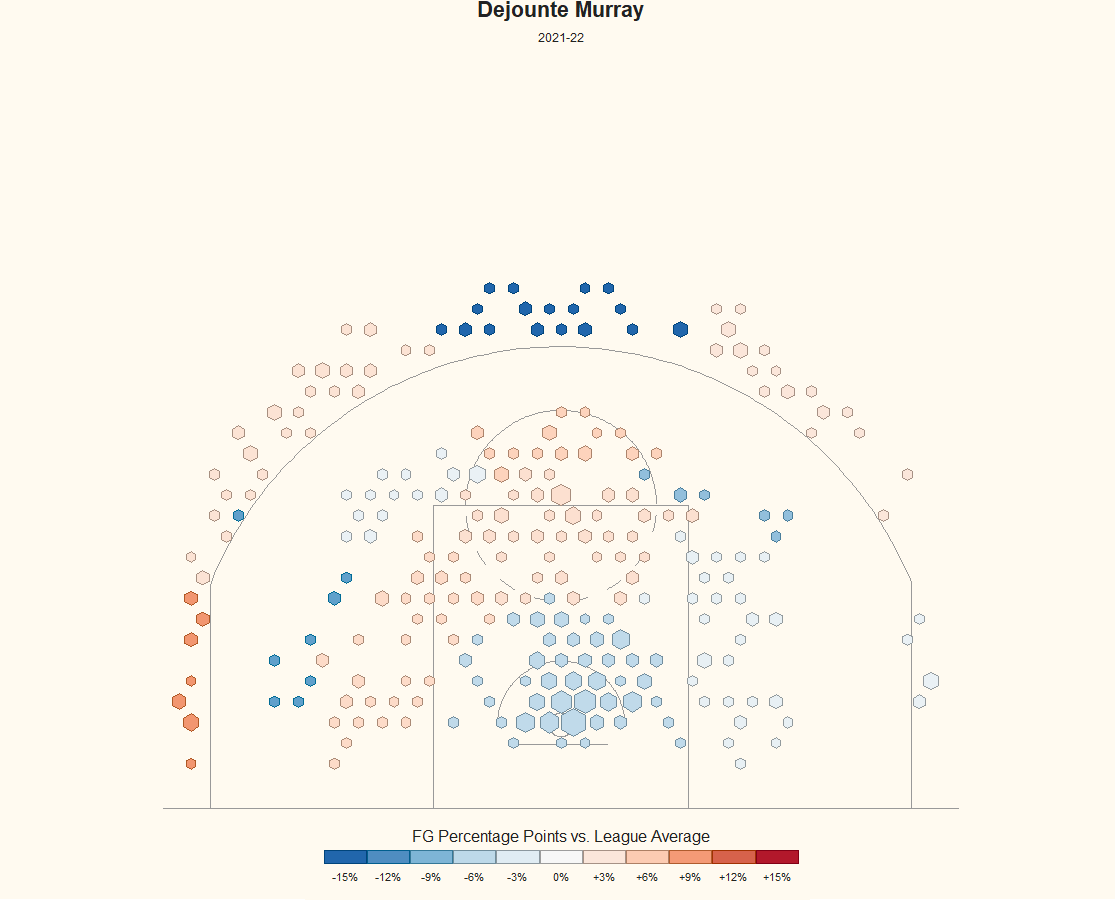

Layout of this report page (visuals, bound fields, positions):
{"tool":"tableau","page":{"name":"Dashboard 1","canvas":[800,800],"ordinal":0},"visuals":[{"type":"worksheet","title":"Sheet 1","mark":"Automatic","rows":["LOC_Y"],"cols":["LOC_X"],"box":[8,8,624,784]},{"type":"legend","title":"Sheet 1","param":"[federated.03dq9x01td4w500zwbh3a0a7gqdi].[none:SHOT_MADE_FLAG:ok]","box":[632,8,160,72]}]}

Visuals, with their boxes on the page's 800x800 design canvas (x1, y1, x2, y2). These are canvas units, not pixel positions in the 1115x900 screenshot, which may show the page scaled, cropped or inside an application window:
"Sheet 1" worksheet: <region>8, 8, 632, 792</region>
"Sheet 1" legend: <region>632, 8, 792, 80</region>
